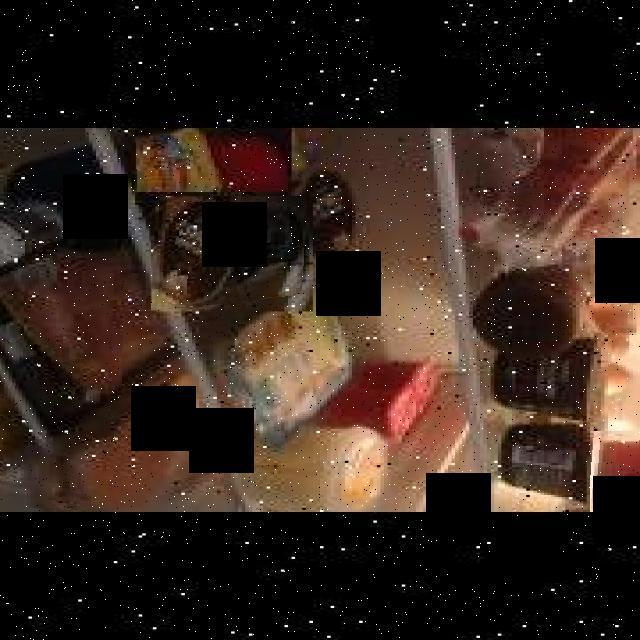egg: (583, 294, 633, 333)
tortillas: (0, 271, 124, 508)
yogurt: (151, 196, 308, 312), (132, 128, 288, 192), (590, 431, 640, 512)
